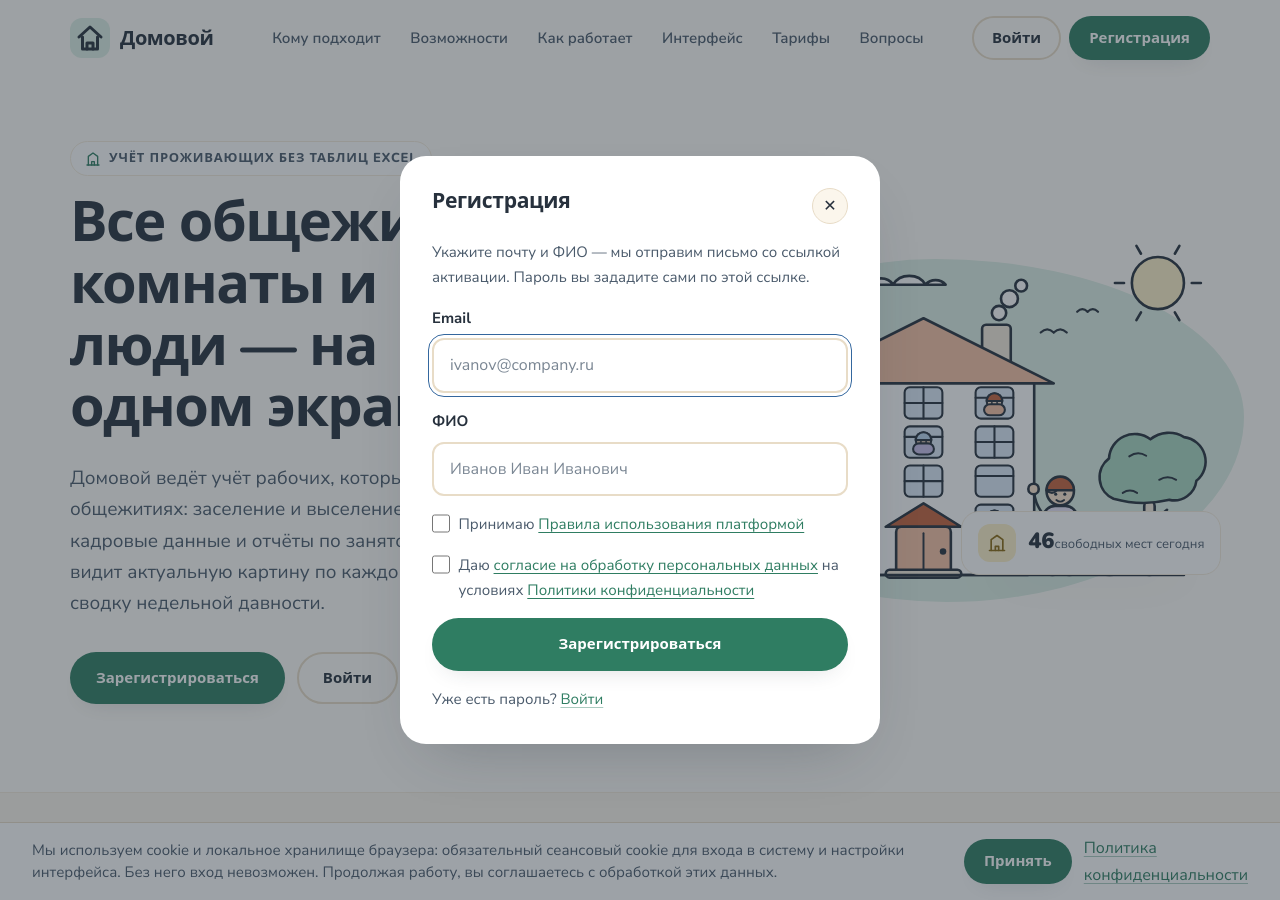
Scenario: закрытие модального окна › закрывается кнопкой закрытия
This screenshot has width=1280, height=900.
Expected: the dialog with test id "auth-modal" is shown, 400,156 -> 880,744
Click the button with test id "auth-modal-close".
click(830, 206)  # box 812,188 -> 848,224
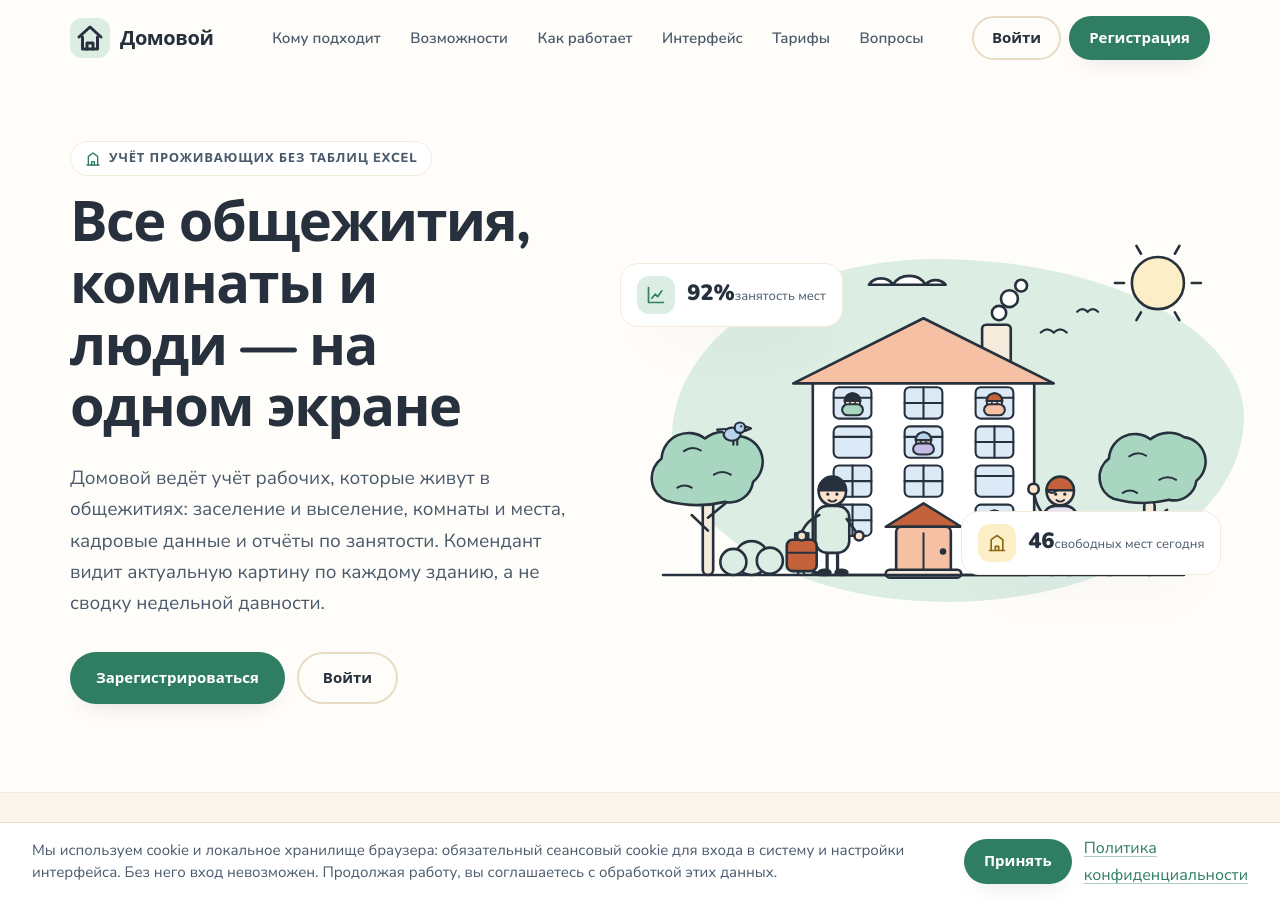
Expected: the dialog with test id "auth-modal" is gone
